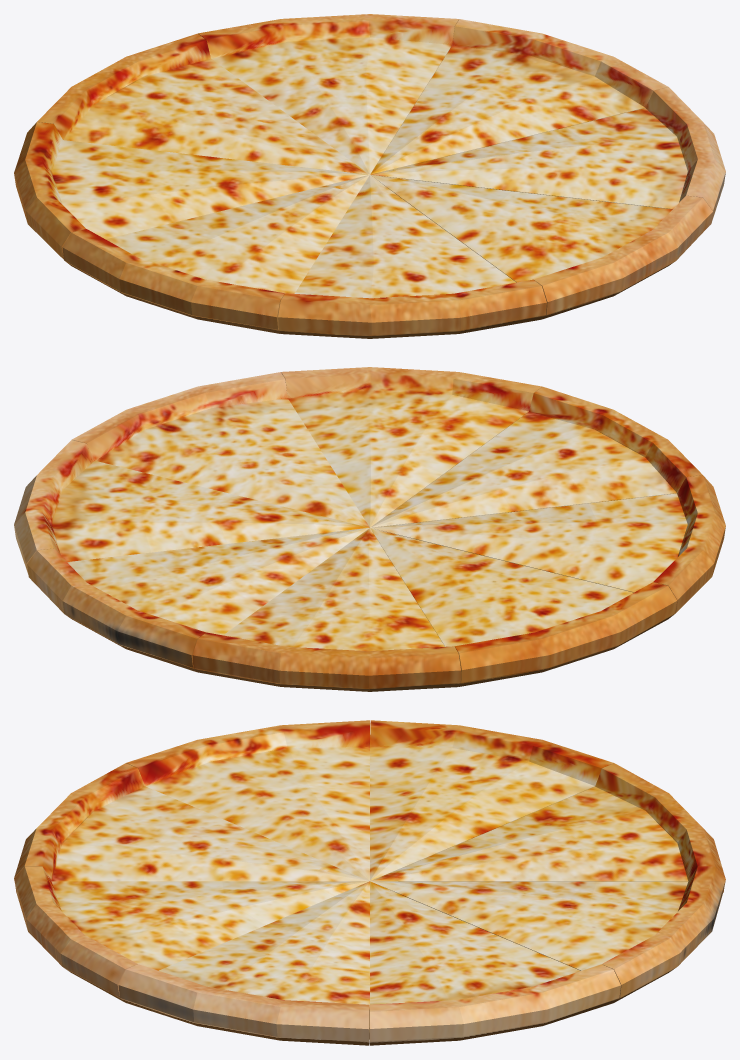
The model's file is pizza.fbx.
The picture shows the model from 3 angles, top to bottom: view 1: azimuth 30°, elevation 25°; view 2: azimuth 150°, elevation 25°; view 3: azimuth 270°, elevation 25°; orthographic projection.
Parts seen in each view (by area): view 1: pizza; view 2: pizza; view 3: pizza.
Part boxes in pixels (x1,y1,x2,y2): pizza: [14, 14, 725, 338]; pizza: [14, 367, 725, 691]; pizza: [14, 720, 725, 1045].
Bounding box in the file's own units: 3932 × 225 × 3932.
1 material, 1 textured.
